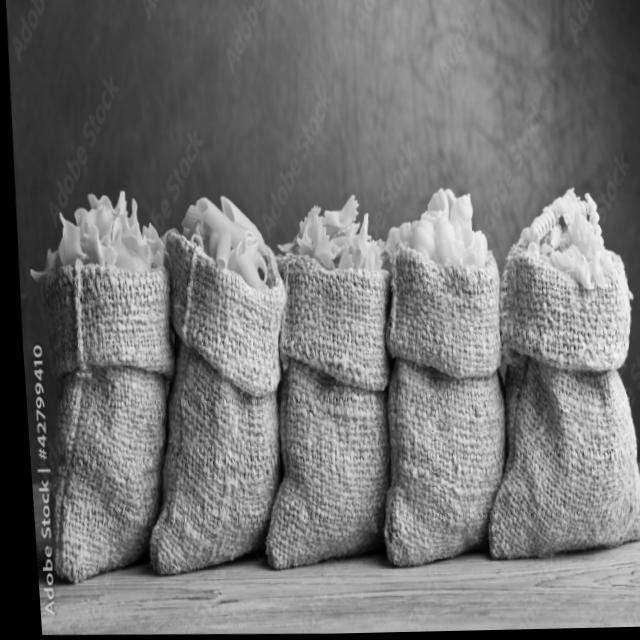sack: (125, 225, 296, 581), (464, 243, 640, 564), (20, 254, 181, 587), (242, 251, 400, 570), (360, 240, 511, 567)
